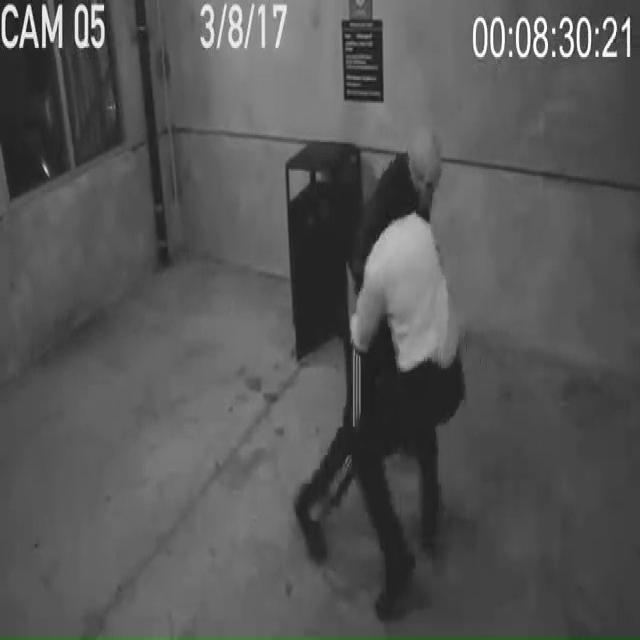fight: (334, 118, 468, 623)
